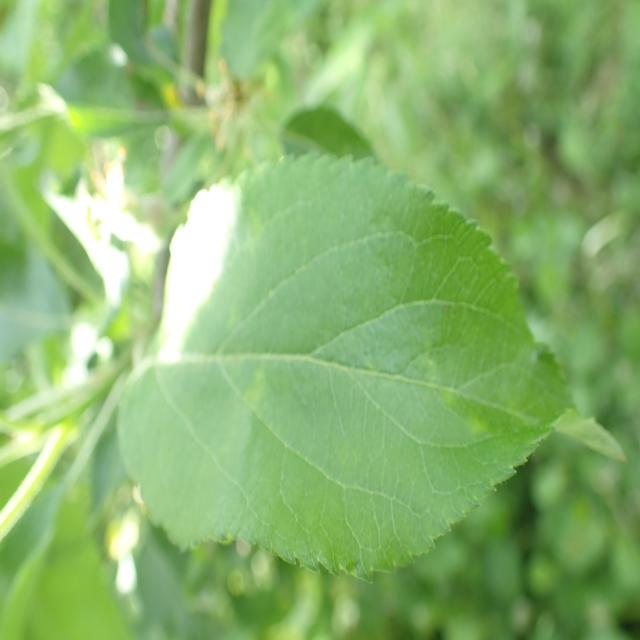scab: (216, 220, 545, 486)
